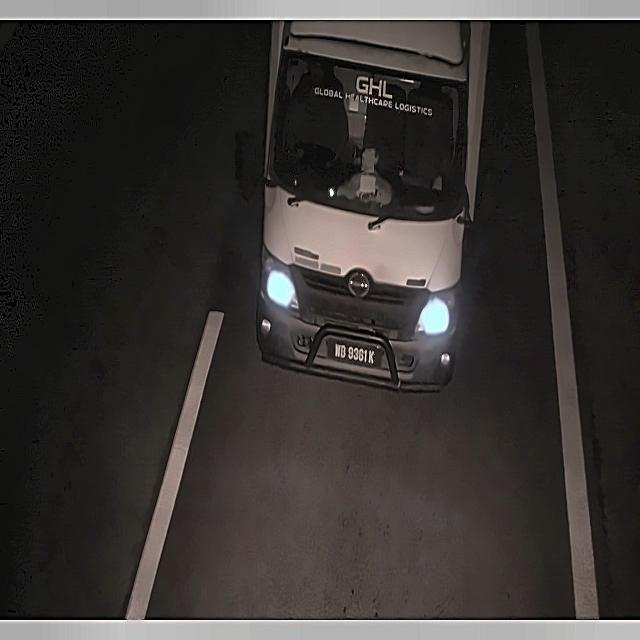car: (319, 333, 382, 371)
